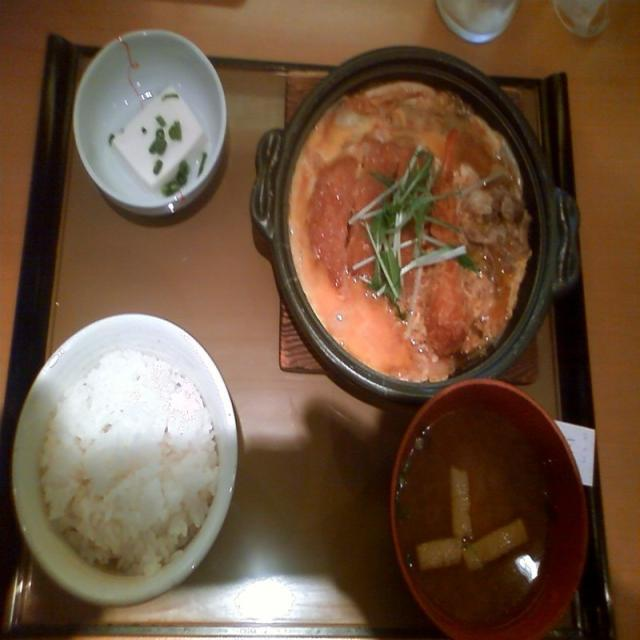Rice: (44, 346, 232, 580)
